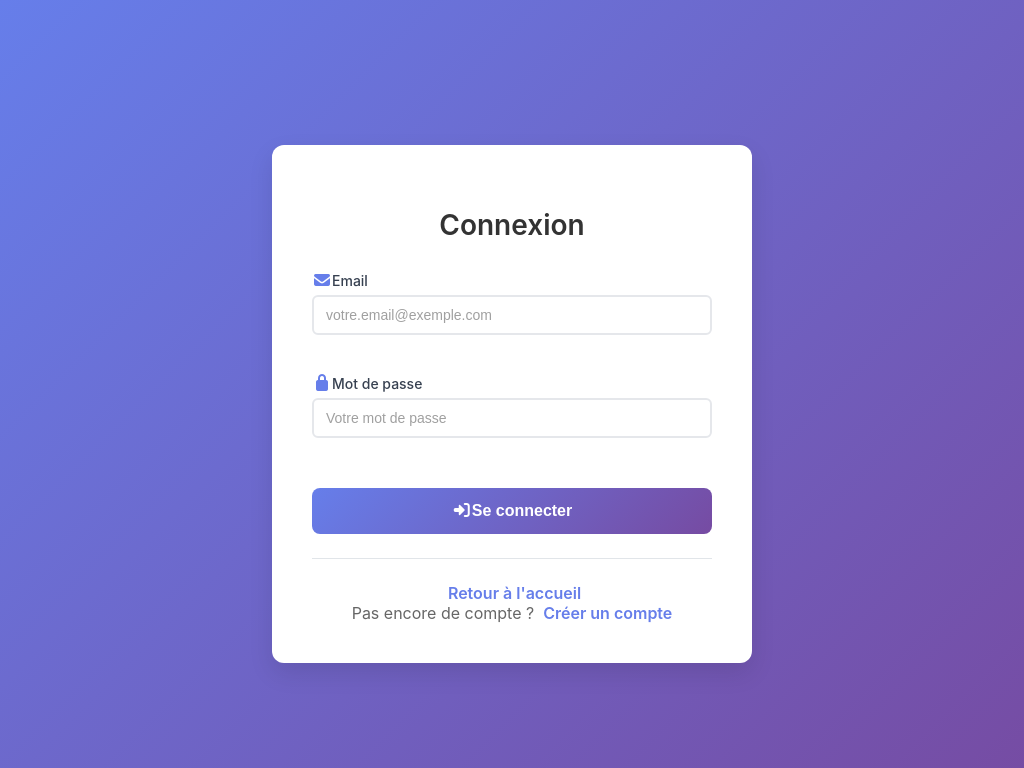
Test case: Login Component › clears error message when form is resubmitted
The width and height of the screenshot is (1024, 768).
Note: First submission - fails
Type "test@example.com" into the field labelled "Email".
click(512, 315); type("test@example.com")  # box [312,295,712,335]
Type "wrongpassword" into the password field labelled "Mot de passe".
click(512, 418); type("wrongpassword")  # box [312,398,712,438]
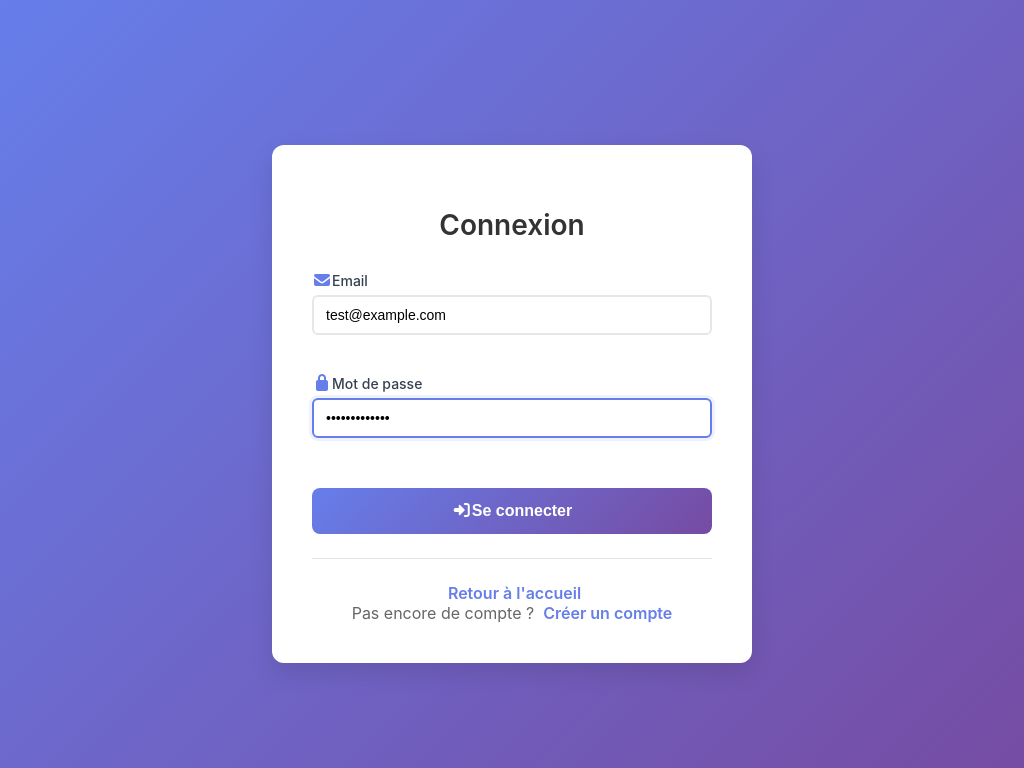
Click the button "Se connecter".
click(512, 511)  # box [312,488,712,534]
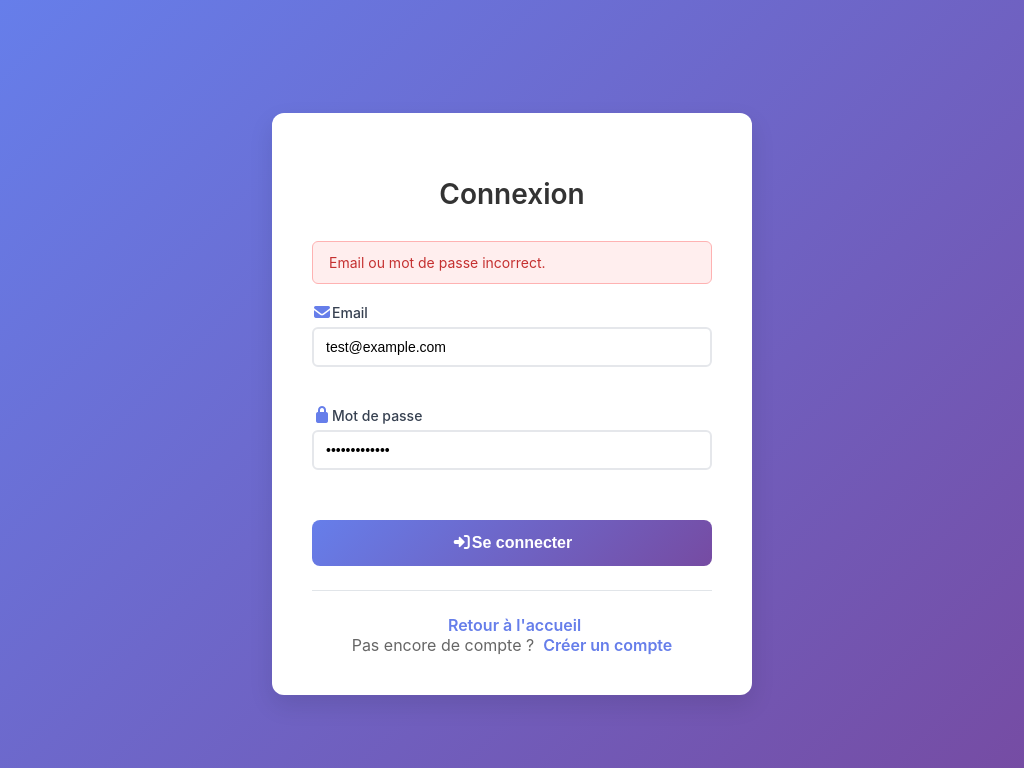
Expected: the text "Email ou mot de passe incorrect." is shown, [312,241,712,284]
Note: Second submission - succeeds
Clear the field labelled "Email" at (512, 347), box [312,327,712,367]
Clear the password field labelled "Mot de passe" at (512, 450), box [312,430,712,470]
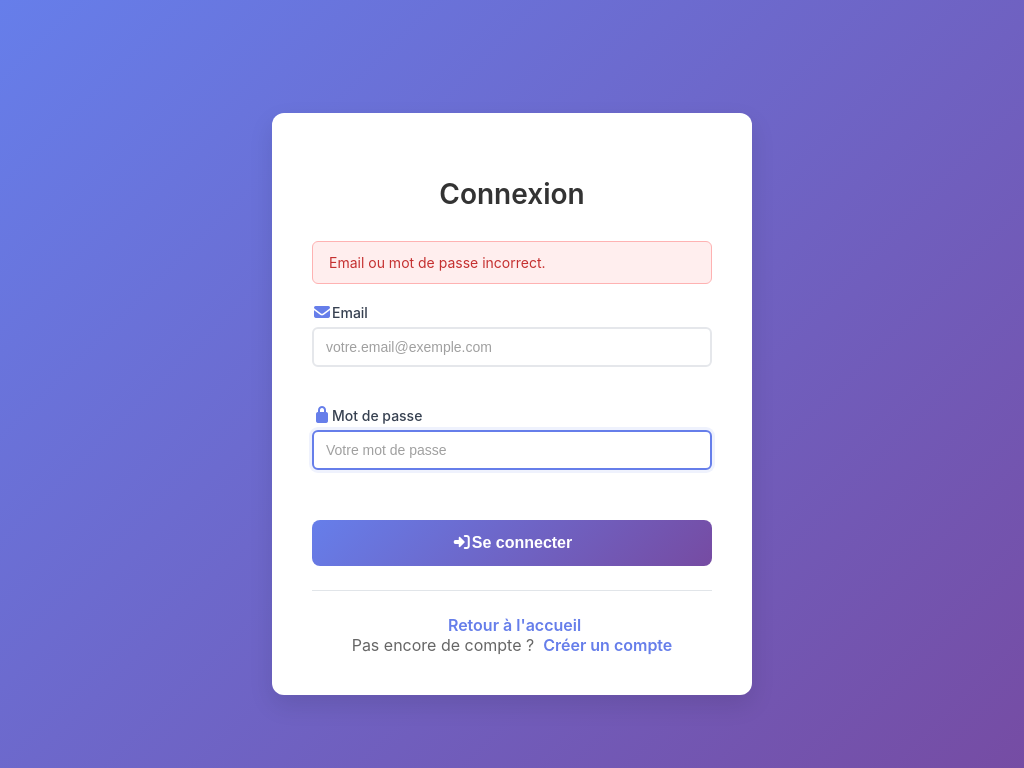
Type "test@example.com" into the field labelled "Email".
click(512, 347); type("test@example.com")  # box [312,327,712,367]
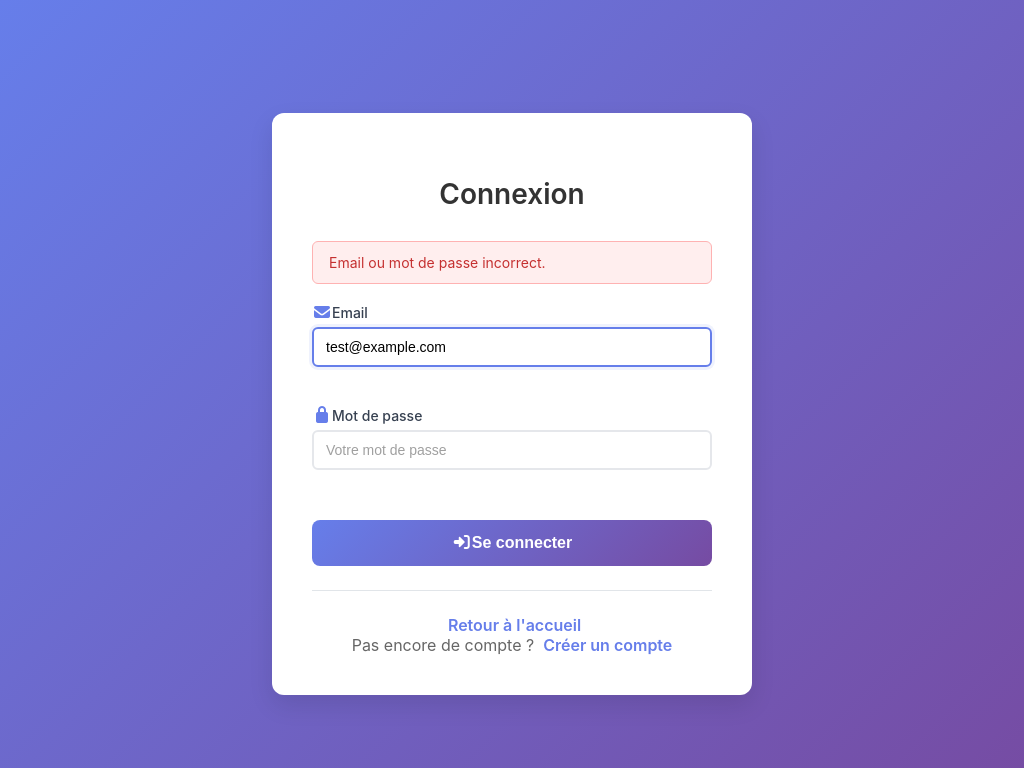
Type "correctpassword" into the password field labelled "Mot de passe".
click(512, 450); type("correctpassword")  # box [312,430,712,470]
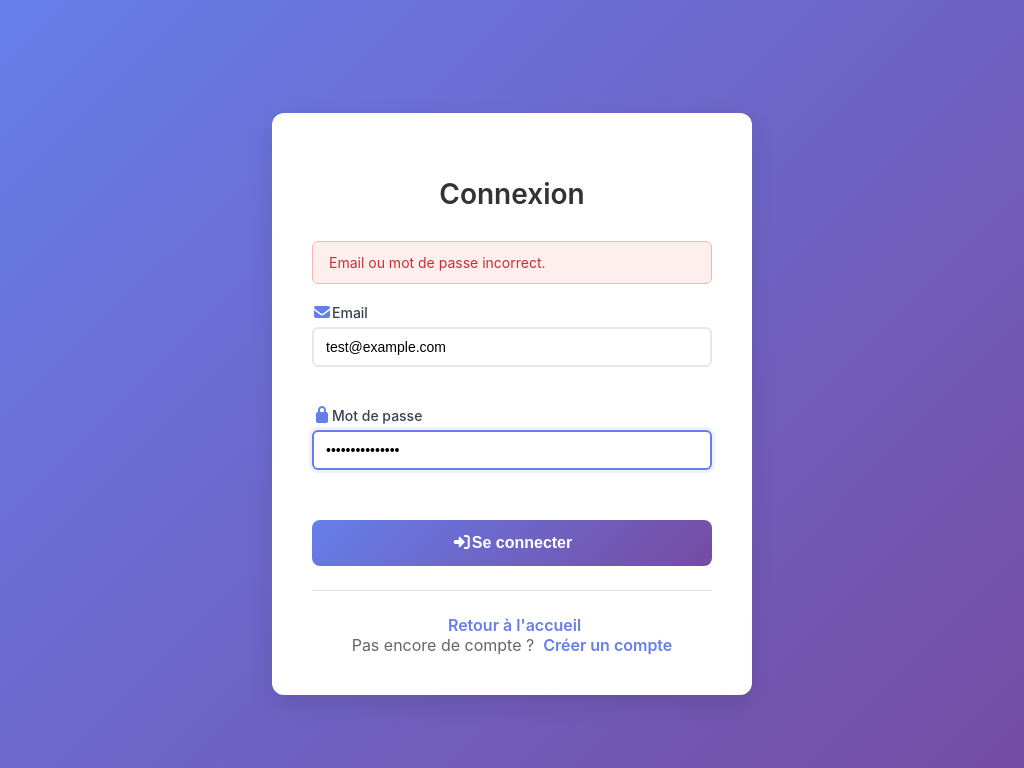
Click the button "Se connecter".
click(512, 543)  # box [312,520,712,566]
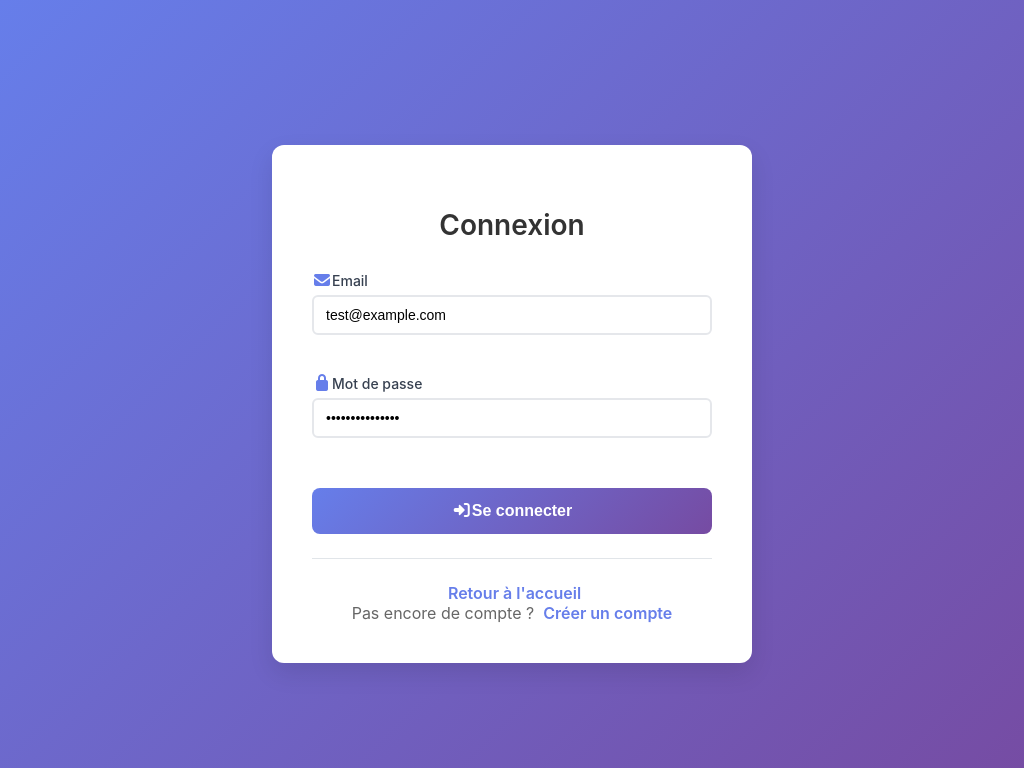
Expected: the text "Email ou mot de passe incorrect." is gone
